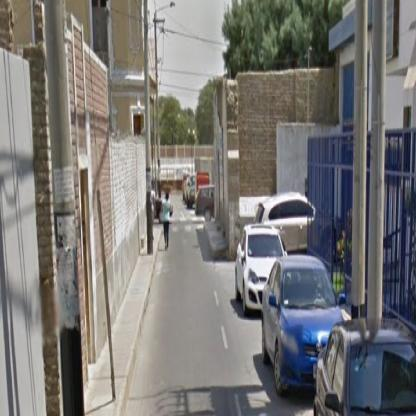Peaton: (162, 189, 173, 247)
Pista: (127, 189, 372, 411)
Vehiculo: (263, 252, 348, 392), (234, 221, 292, 316)
